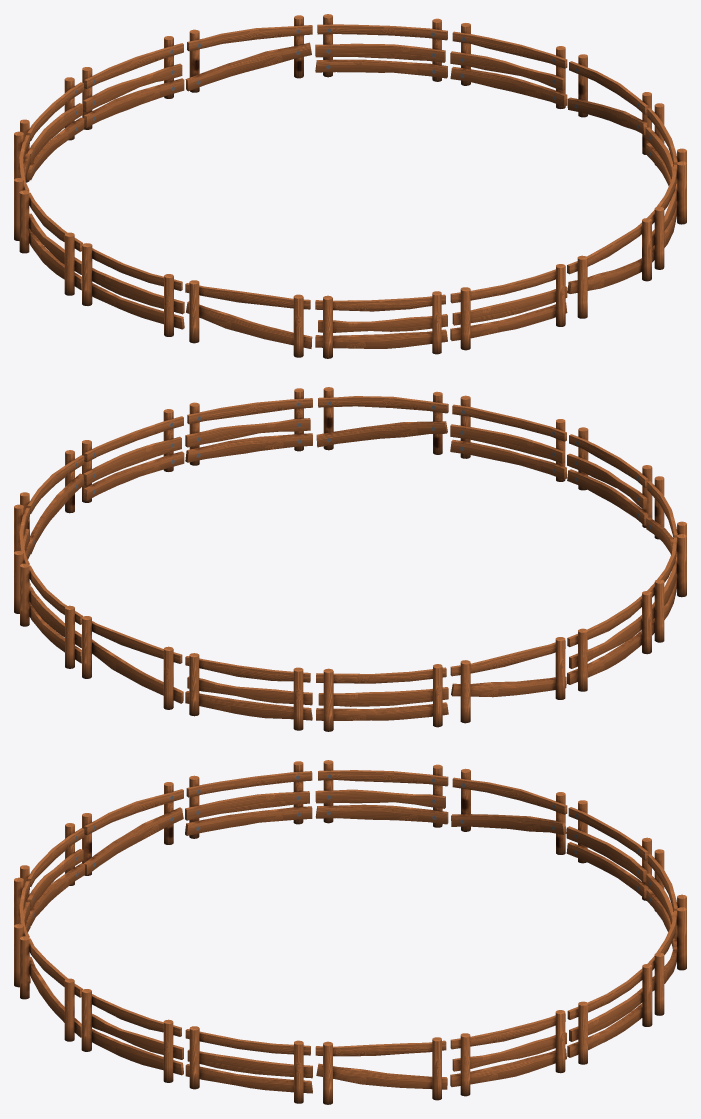
File: Fence.fbx
The picture shows the model from 3 angles, top to bottom: view 1: azimuth 30°, elevation 25°; view 2: azimuth 150°, elevation 25°; view 3: azimuth 270°, elevation 25°; orthographic projection.
Parts seen in each view (by area): view 1: Fences; view 2: Fences; view 3: Fences.
Boxes of the visible parts, x1,y1,x2,y2 form: Fences: (14, 14, 686, 358); Fences: (14, 387, 686, 731); Fences: (14, 760, 686, 1104).
Bounding box in the file's own units: 1227 × 118 × 1221.
